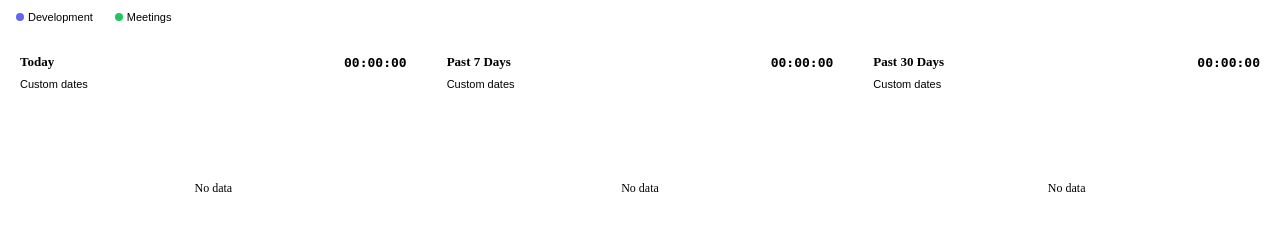
Test: CategoryPieCharts › shows custom dates toggle
The image size is (1277, 236).
Click the button "Custom dates" below "Today" at (54, 84), box [20,78,407,90]
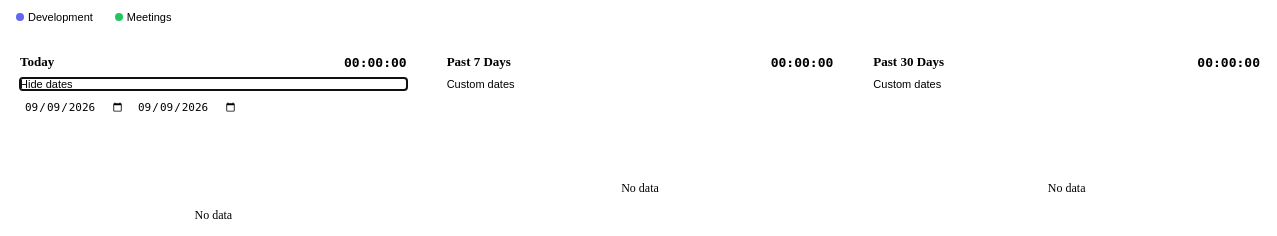
Now the button "Hide dates" is shown, box [20,78,407,90]
